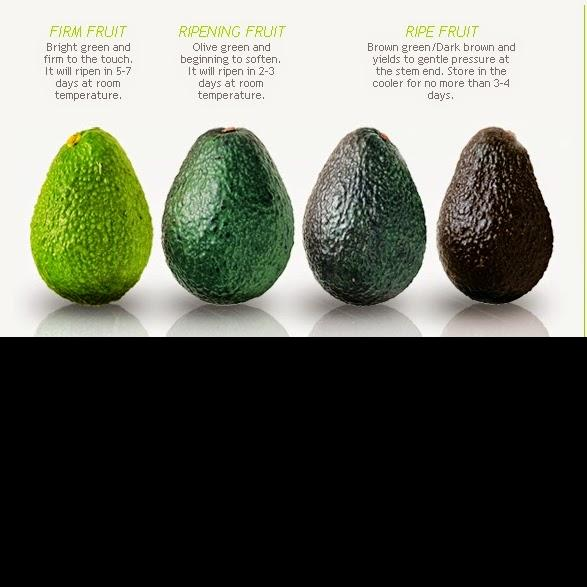almost: (302, 127, 426, 306)
ripe: (436, 127, 553, 304)
unripe: (161, 128, 293, 306), (30, 127, 152, 305)
